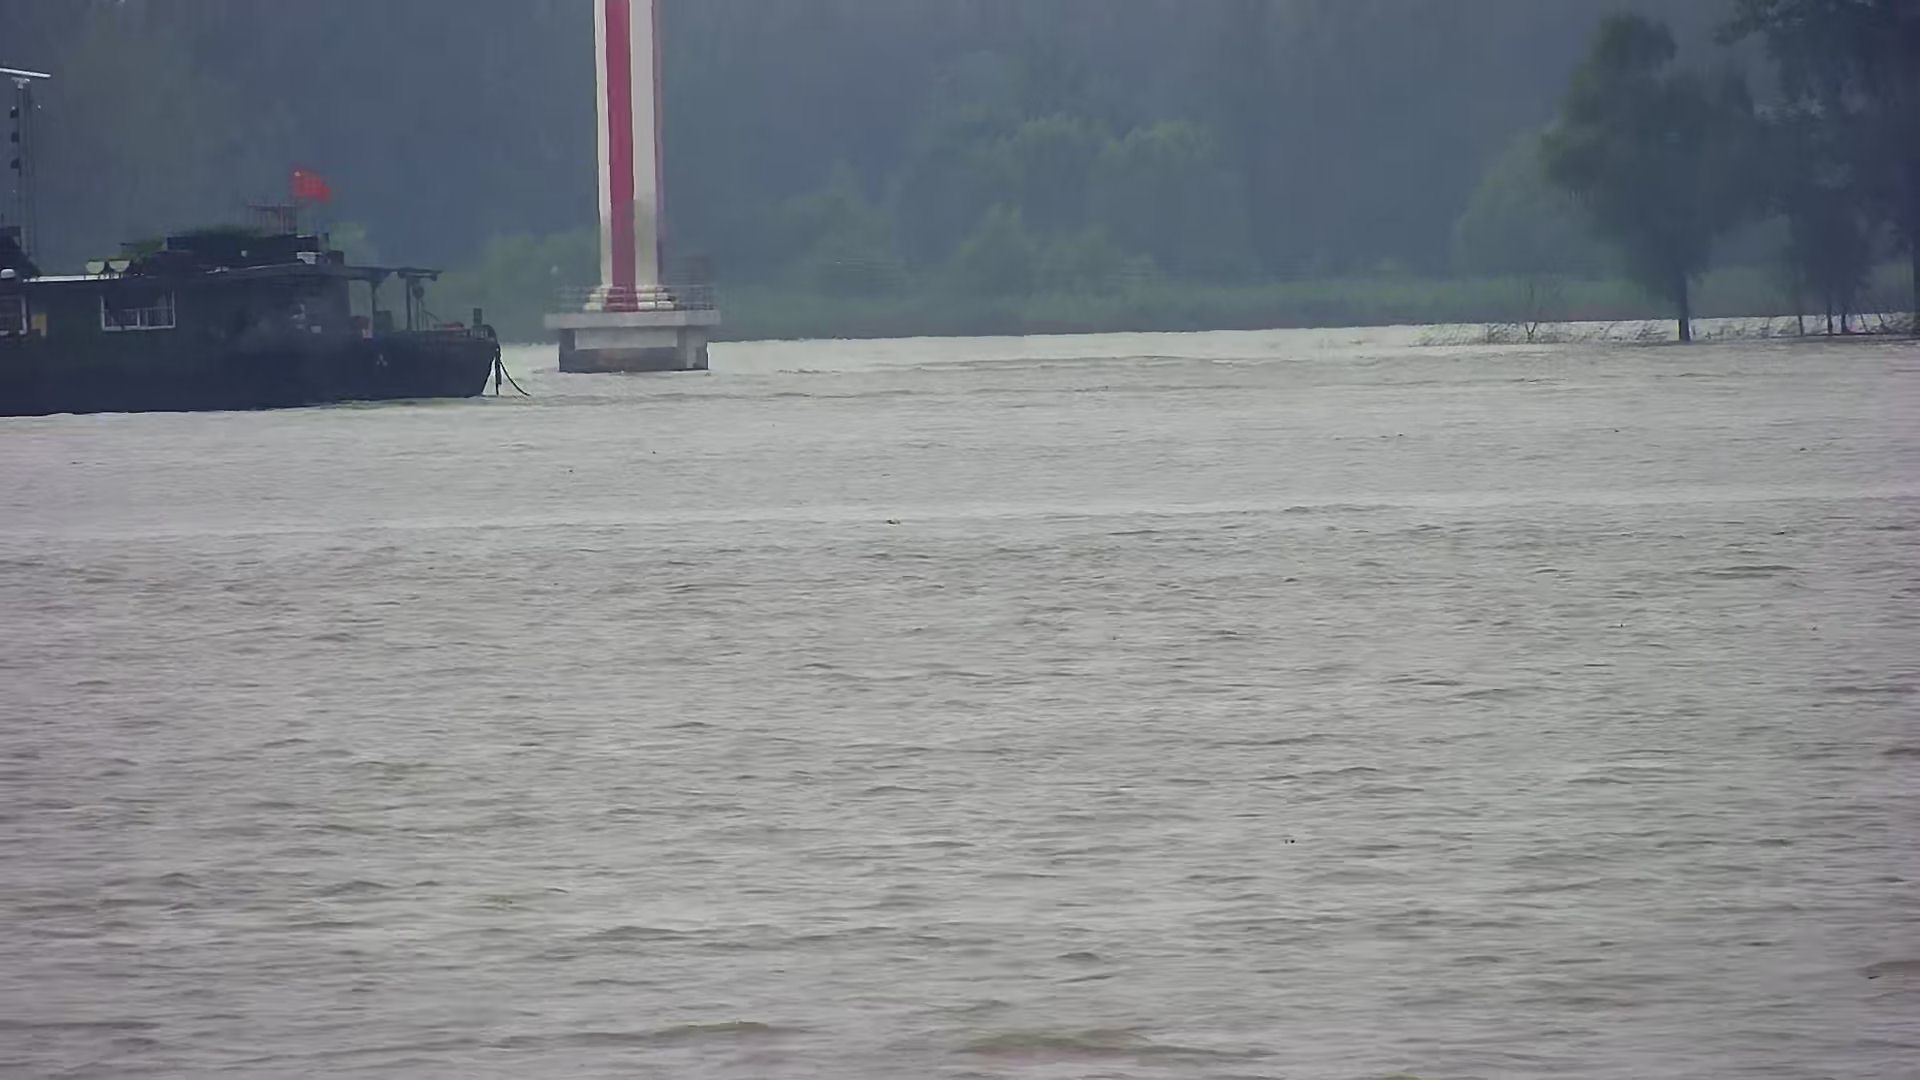grass: (1414, 309, 1668, 342)
platform: (535, 3, 723, 372)
ship: (1, 196, 501, 414)
tree: (1542, 11, 1760, 345), (1718, 4, 1920, 339)
